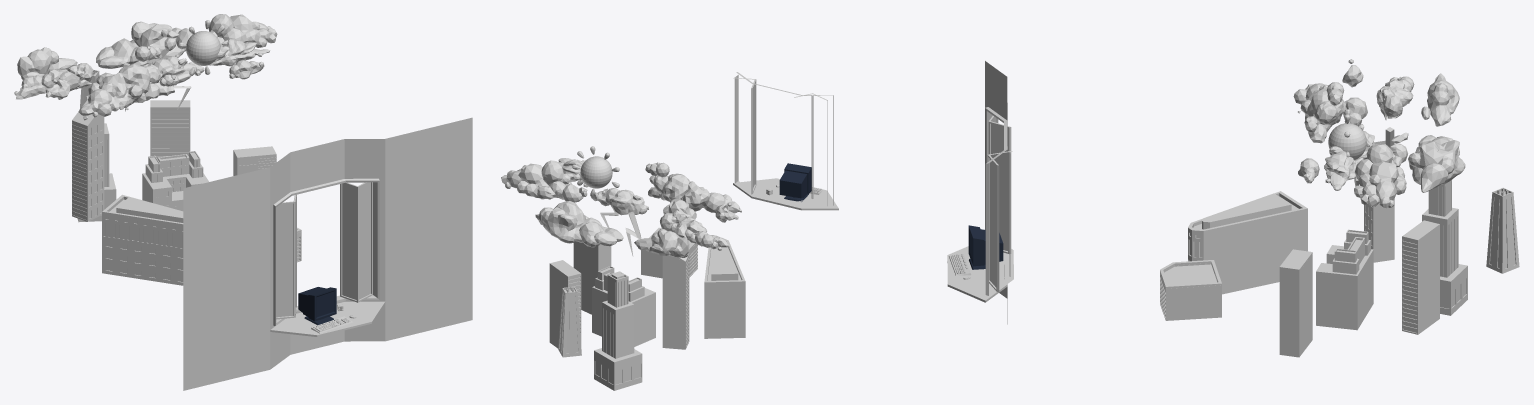
The model's file is models.glb.
3 renders of one model, left to right at view 1: azimuth 30°, elevation 25°; view 2: azimuth 150°, elevation 25°; view 3: azimuth 270°, elevation 25°, orthographic. The views are drawn at different scales.
Visible parts, largest first — view 1: wall, building8, cloud12, glass_left, building7, cloud1, glass_right, table, building6, building2, cloud9, cloud11 (+16 smaller); view 2: building4, building8, building7, cloud1, cloud12, building6, cloud9, building3, building2, cloud11, wall, table (+15 smaller); view 3: building8, building6, building2, building3, wall, cloud9, cloud1, building4, building5, cloud12, building1, snow_roof8 (+17 smaller).
Part boxes in pixels (box(x1,y1,x2,y2)): wall: box(183, 117, 472, 390); building8: box(102, 198, 183, 285); cloud12: box(78, 46, 178, 120); glass_left: box(342, 182, 370, 299); building7: box(72, 114, 104, 221); cloud1: box(96, 21, 186, 68); glass_right: box(276, 196, 294, 317); table: box(270, 301, 385, 336); building6: box(142, 152, 203, 211); building2: box(150, 109, 190, 158); cloud9: box(208, 14, 277, 47); cloud11: box(14, 63, 93, 99); building4: box(594, 275, 642, 390); building8: box(704, 247, 745, 338); building7: box(662, 255, 689, 349); cloud1: box(535, 201, 623, 247); cloud12: box(645, 162, 741, 213); building6: box(592, 267, 655, 346); cloud9: box(501, 160, 571, 199); building3: box(573, 241, 611, 314); building2: box(549, 265, 581, 348); cloud11: box(660, 210, 729, 250); wall: box(734, 72, 833, 206); table: box(733, 178, 838, 210); building8: box(1188, 195, 1307, 294); building6: box(1316, 231, 1373, 330); building2: box(1402, 226, 1439, 334); building3: box(1279, 254, 1312, 357); wall: box(985, 61, 1013, 324); cloud9: box(1354, 144, 1406, 208); cloud1: box(1408, 135, 1465, 192); building4: box(1422, 180, 1467, 315); building5: box(1160, 263, 1221, 320); cloud12: box(1293, 82, 1345, 143); building1: box(1486, 189, 1519, 273); snow_roof8: box(1188, 191, 1307, 232).
Size of the model in its own units: 4.27 by 2.92 by 6.67.
